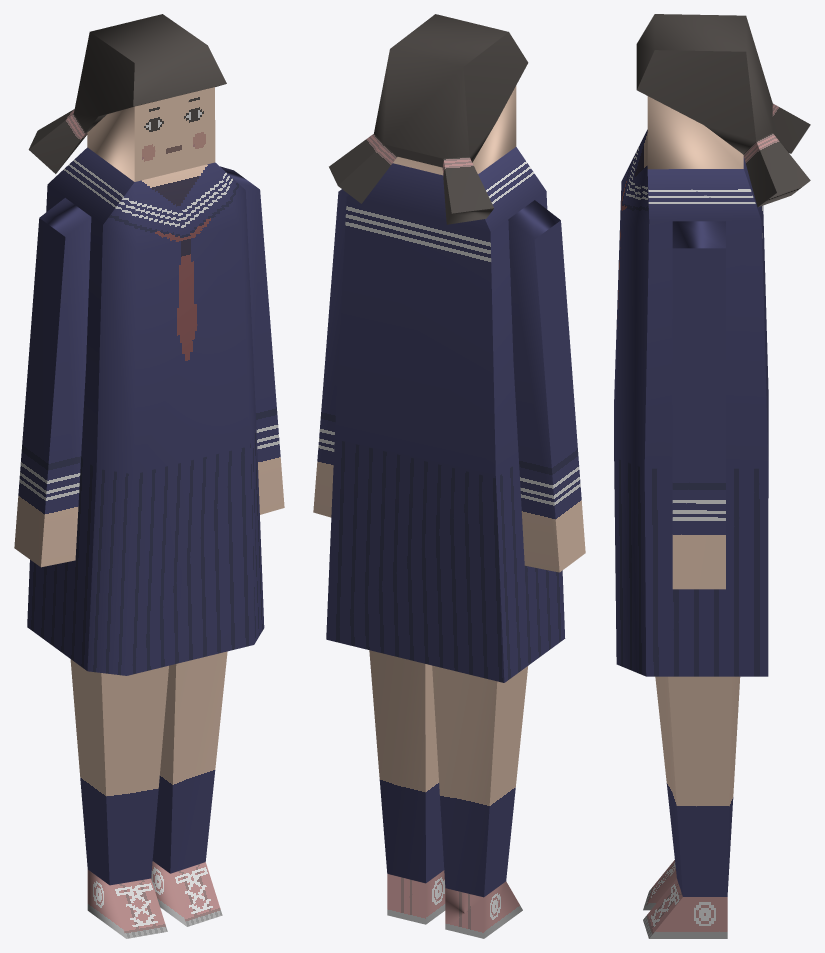
Rendered from 0215_Tall_Schoolgirl.glb.
The picture shows the model from 3 angles, left to right: view 1: azimuth 30°, elevation 25°; view 2: azimuth 150°, elevation 25°; view 3: azimuth 270°, elevation 25°; orthographic projection.
Visible parts, largest first — view 1: part_0; view 2: part_0; view 3: part_0.
Part boxes in pixels (x1,y1,x2,y2): part_0: (14, 14, 284, 938); part_0: (313, 14, 585, 938); part_0: (614, 14, 810, 938).
Size of the model in its own units: 0.5262 by 1.79 by 0.3618.
Materials: 1 (1 with a texture image).
